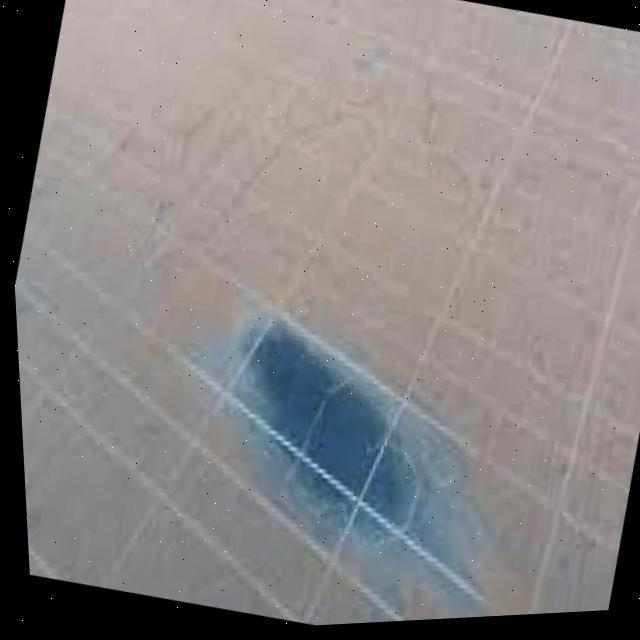Anomaly Solar Panel: (0, 0, 640, 640)
Surface Contaminant: (12, 0, 640, 628)
